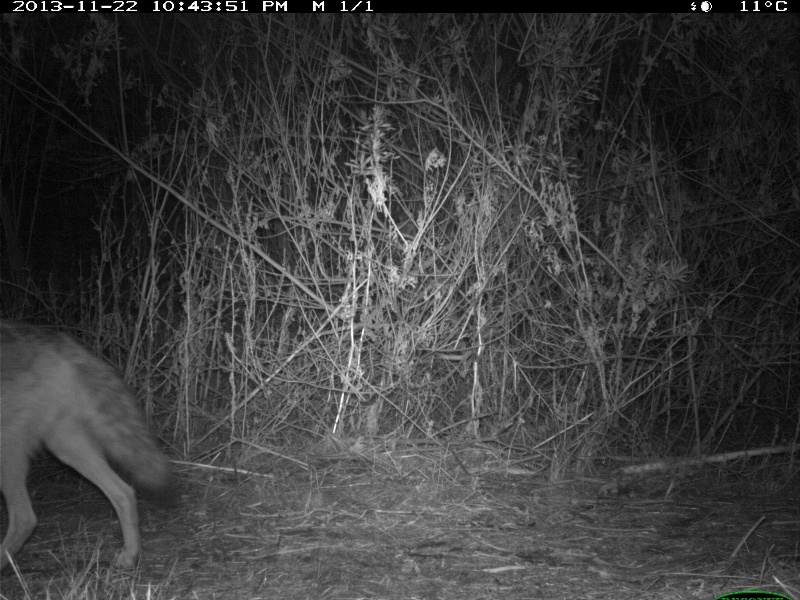coyote: (1, 314, 178, 574)
